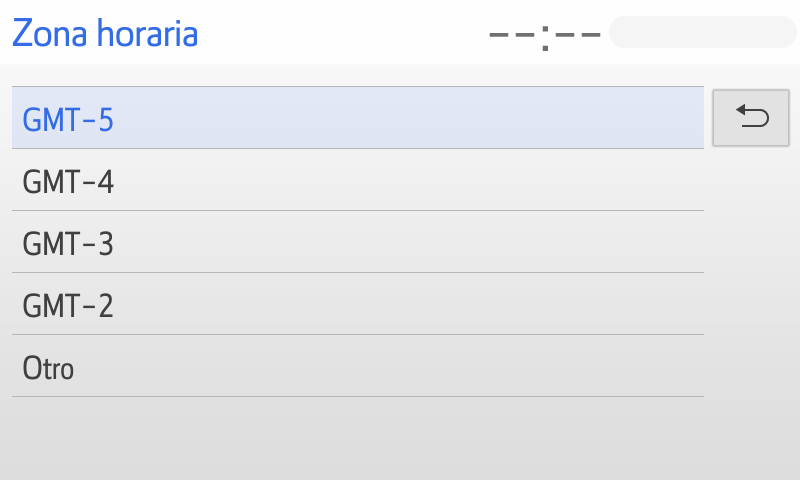touchPart: (7, 204, 703, 280), (7, 145, 708, 217), (8, 268, 704, 338), (7, 83, 705, 151), (8, 331, 709, 398), (712, 87, 793, 156)
untouchPart: (476, 9, 794, 57), (12, 10, 203, 52)
